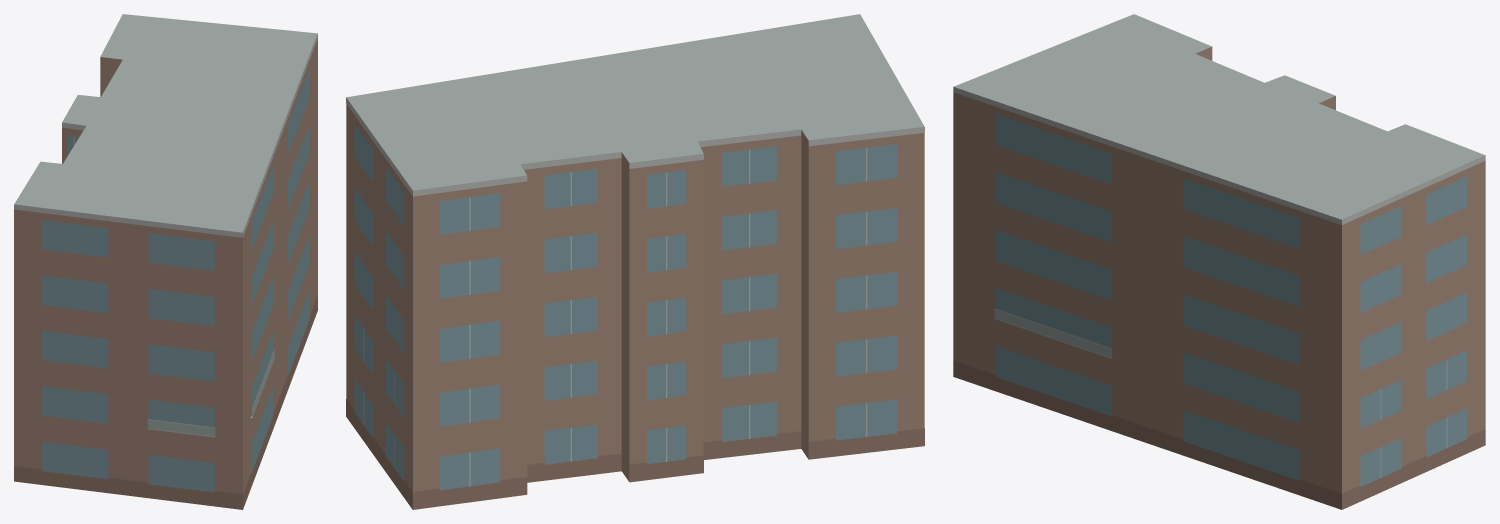
Rendered from survey-upis-32888647.glb.
3 renders of one model, left to right at view 1: azimuth 30°, elevation 25°; view 2: azimuth 150°, elevation 25°; view 3: azimuth 270°, elevation 25°, orthographic. The views are drawn at different scales.
Parts seen in each view (by area): view 1: survey-upis-32888647.tmp; view 2: survey-upis-32888647.tmp; view 3: survey-upis-32888647.tmp.
Boxes of the visible parts, x1,y1,x2,y2 form: survey-upis-32888647.tmp: (14, 14, 317, 509); survey-upis-32888647.tmp: (346, 14, 924, 509); survey-upis-32888647.tmp: (953, 14, 1485, 509).
Bounding box in the file's own units: 20.02 × 13.15 × 21.87.
